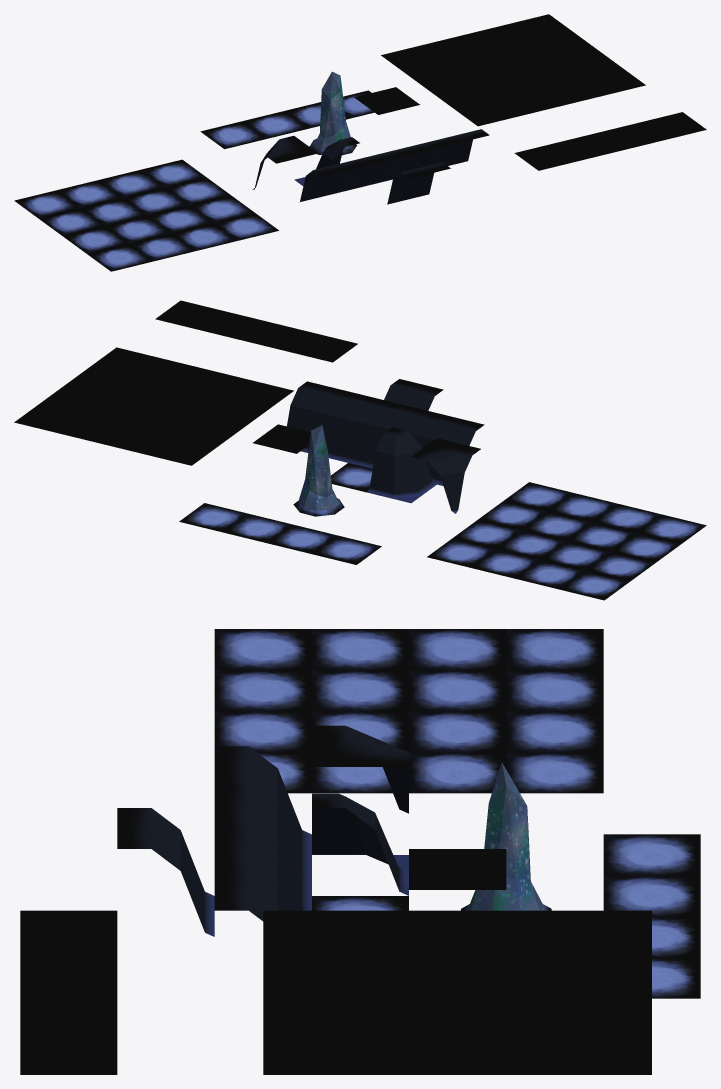
The model's file is maptip1.fbx.
3 views of the same model, one above another, from view 1: azimuth 30°, elevation 25°; view 2: azimuth 150°, elevation 25°; view 3: azimuth 270°, elevation 25° (orthographic). The views are drawn at different scales.
Visible parts, largest first — view 1: 立方体.007, 立方体.009, 立方体.004, 立方体.010, 立方体.008, 立方体.005, 立方体.001, 立方体, 立方体.000, 立方体.006; view 2: 立方体.007, 立方体.009, 立方体.004, 立方体.010, 立方体.008, 立方体.006, 立方体.005, 立方体.000, 立方体.001, 立方体, 立方体.003; view 3: 立方体.007, 立方体.009, 立方体.010, 立方体.004, 立方体.008, 立方体.005, 立方体.006, 立方体.001, 立方体, 立方体.000, 立方体.003.
Part boxes in pixels (x1=…): 立方体.007: x1=381, y1=14, x2=645, y2=126; 立方体.009: x1=14, y1=159, x2=278, y2=271; 立方体.004: x1=299, y1=129, x2=489, y2=202; 立方体.010: x1=514, y1=112, x2=706, y2=170; 立方体.008: x1=200, y1=90, x2=374, y2=149; 立方体.005: x1=309, y1=71, x2=356, y2=155; 立方体.001: x1=387, y1=162, x2=450, y2=204; 立方体: x1=354, y1=87, x2=419, y2=114; 立方体.000: x1=252, y1=136, x2=317, y2=189; 立方体.006: x1=294, y1=137, x2=359, y2=185; 立方体.007: x1=14, y1=347, x2=293, y2=465; 立方体.009: x1=427, y1=482, x2=706, y2=600; 立方体.004: x1=287, y1=381, x2=484, y2=485; 立方体.010: x1=155, y1=300, x2=357, y2=362; 立方体.008: x1=179, y1=503, x2=381, y2=564; 立方体.006: x1=367, y1=427, x2=436, y2=503; 立方体.005: x1=293, y1=425, x2=344, y2=516; 立方体.000: x1=411, y1=438, x2=480, y2=513; 立方体.001: x1=384, y1=379, x2=443, y2=410; 立方体: x1=253, y1=424, x2=310, y2=453; 立方体.003: x1=331, y1=463, x2=372, y2=492; 立方体.007: x1=263, y1=910, x2=651, y2=1074; 立方体.009: x1=214, y1=629, x2=603, y2=793; 立方体.010: x1=20, y1=910, x2=117, y2=1074; 立方体.004: x1=214, y1=746, x2=311, y2=921; 立方体.008: x1=603, y1=834, x2=700, y2=998; 立方体.005: x1=461, y1=762, x2=551, y2=910; 立方体.006: x1=312, y1=793, x2=408, y2=895; 立方体.001: x1=117, y1=808, x2=214, y2=936; 立方体: x1=409, y1=849, x2=506, y2=889; 立方体.000: x1=312, y1=725, x2=408, y2=813; 立方体.003: x1=312, y1=896, x2=408, y2=910.
Bounding box in the file's own units: 2600 × 347 × 1400.
Materials: 1 (1 with a texture image).
